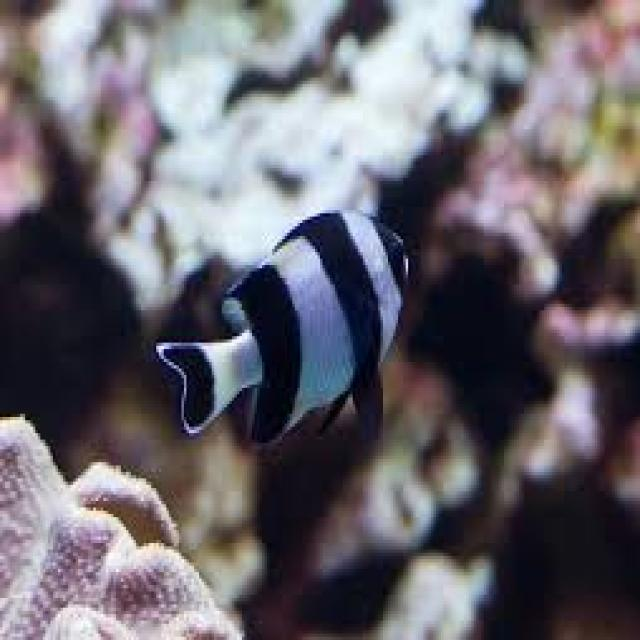ThreeStripedDamselfish: (154, 210, 408, 449)
